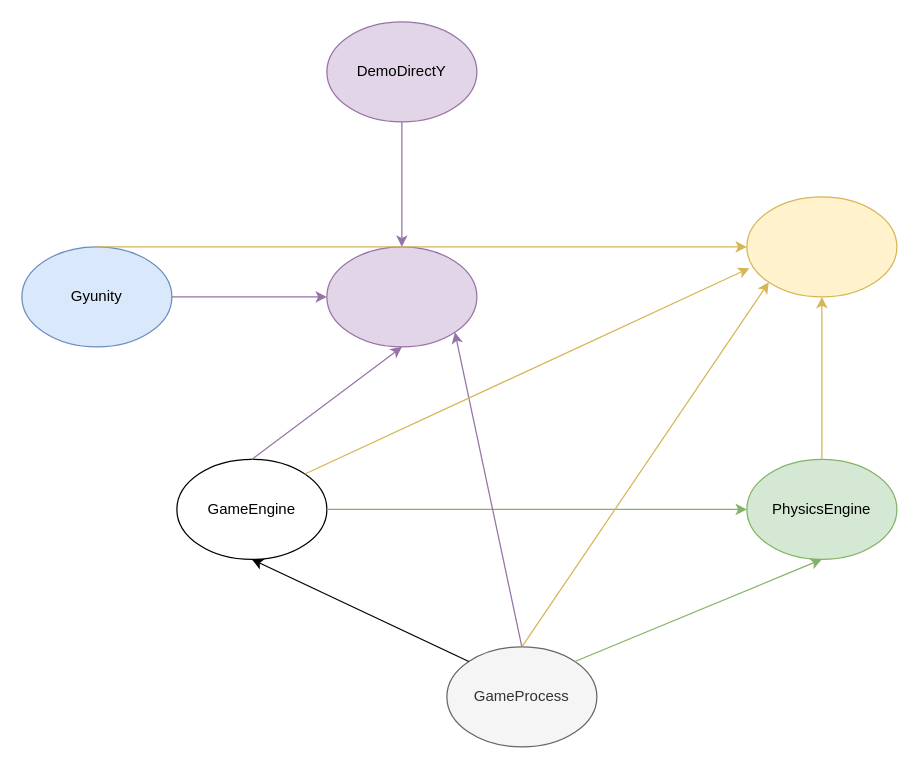
Image size: 919x769. Some labels were removed from this diagram. The shapes that lost their labels are listed below. From the top down, each one's centre as x and y in pixels, then its label:
point (821, 246): MathEngine
point (401, 296): DirectY
